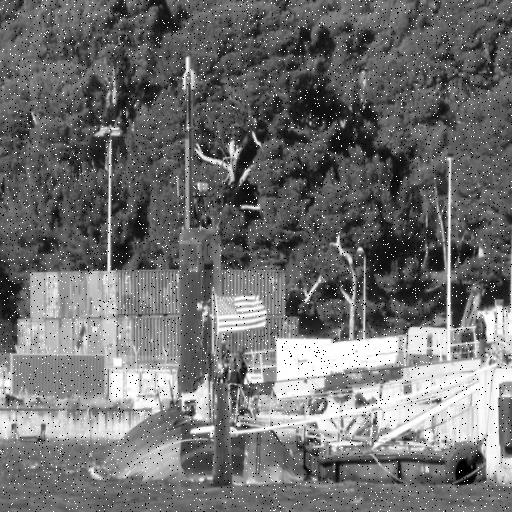submarine: (104, 56, 313, 495)
